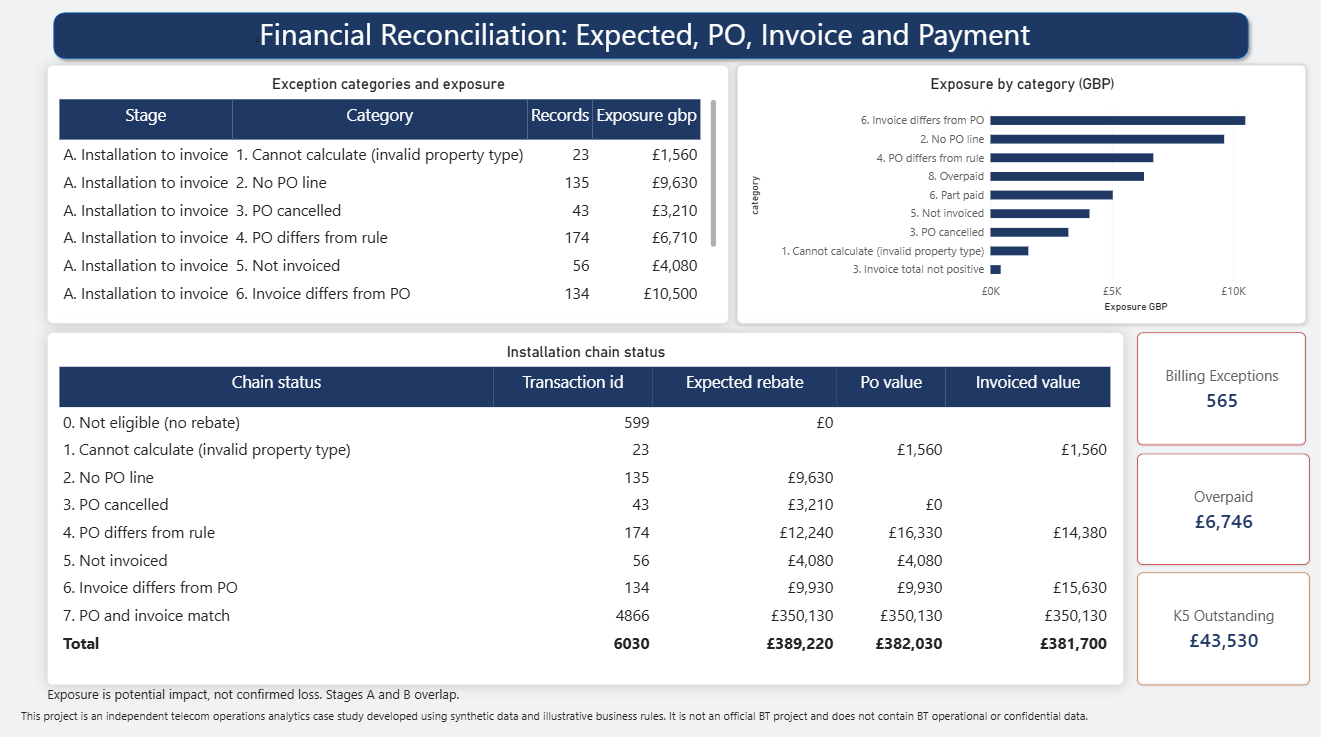

Layout of this report page (visuals, bound fields, positions):
{"tool":"powerbi","page":{"name":"2 Financial Reconciliation","canvas":[1920,1080],"ordinal":1},"visuals":[{"type":"tableEx","title":"Exception categories and exposure","fields":{"Values":["exception_summary.stage","exception_summary.category","Sum(exception_summary.records)","Sum(exception_summary.exposure_gbp)"]},"box":[74.2,101.3,986.3,374.6],"z":0},{"type":"clusteredBarChart","title":"Exposure by category (GBP)","fields":{"Category":["exception_summary.category"],"Y":["Sum(exception_summary.exposure_gbp)"]},"box":[1073.1,101.3,823.4,374.6],"z":1000},{"type":"tableEx","title":"Installation chain status","fields":{"Values":["chain_status.chain_status","chain_status.transaction_id","Sum(chain_status.expected_rebate)","Sum(chain_status.po_value)","Sum(chain_status.invoiced_value)"]},"box":[74.2,488.6,1558.1,510.3],"z":2000},{"type":"textbox","box":[74.2,998.9,1715.6,32.6],"z":3000},{"type":"shape","box":[74.2,16.3,1748.1,85.1],"z":4000},{"type":"textbox","box":[374.6,25.3,1293.9,94.1],"z":5000},{"type":"textbox","box":[36.2,1031.5,1574.4,30.8],"z":6000},{"type":"cardVisual","fields":{"Data":["_Measures.K5 Outstanding"]},"box":[1652.2,836.1,249.7,162.9],"z":7000},{"type":"cardVisual","fields":{"Data":["_Measures.Overpaid"]},"box":[1652.2,663.2,249.7,161.1],"z":8000},{"type":"cardVisual","fields":{"Data":["_Measures.Billing Exceptions"]},"box":[1652.2,488.6,244.3,162.9],"z":9000}]}

Visuals, with their boxes in screenshot pixels (x1, y1, x2, y2), scaled from the page's 1920x1080 canvas onto the 1321x737 screenshot:
"Exception categories and exposure" tableEx: {"left": 51, "top": 69, "right": 730, "bottom": 325}
"Exposure by category (GBP)" clusteredBarChart: {"left": 738, "top": 69, "right": 1305, "bottom": 325}
"Installation chain status" tableEx: {"left": 51, "top": 333, "right": 1123, "bottom": 682}
textbox: {"left": 51, "top": 682, "right": 1231, "bottom": 704}
shape: {"left": 51, "top": 11, "right": 1254, "bottom": 69}
textbox: {"left": 258, "top": 17, "right": 1148, "bottom": 81}
textbox: {"left": 25, "top": 704, "right": 1108, "bottom": 725}
cardVisual - _Measures.K5 Outstanding: {"left": 1137, "top": 571, "right": 1309, "bottom": 682}
cardVisual - _Measures.Overpaid: {"left": 1137, "top": 453, "right": 1309, "bottom": 563}
cardVisual - _Measures.Billing Exceptions: {"left": 1137, "top": 333, "right": 1305, "bottom": 445}
